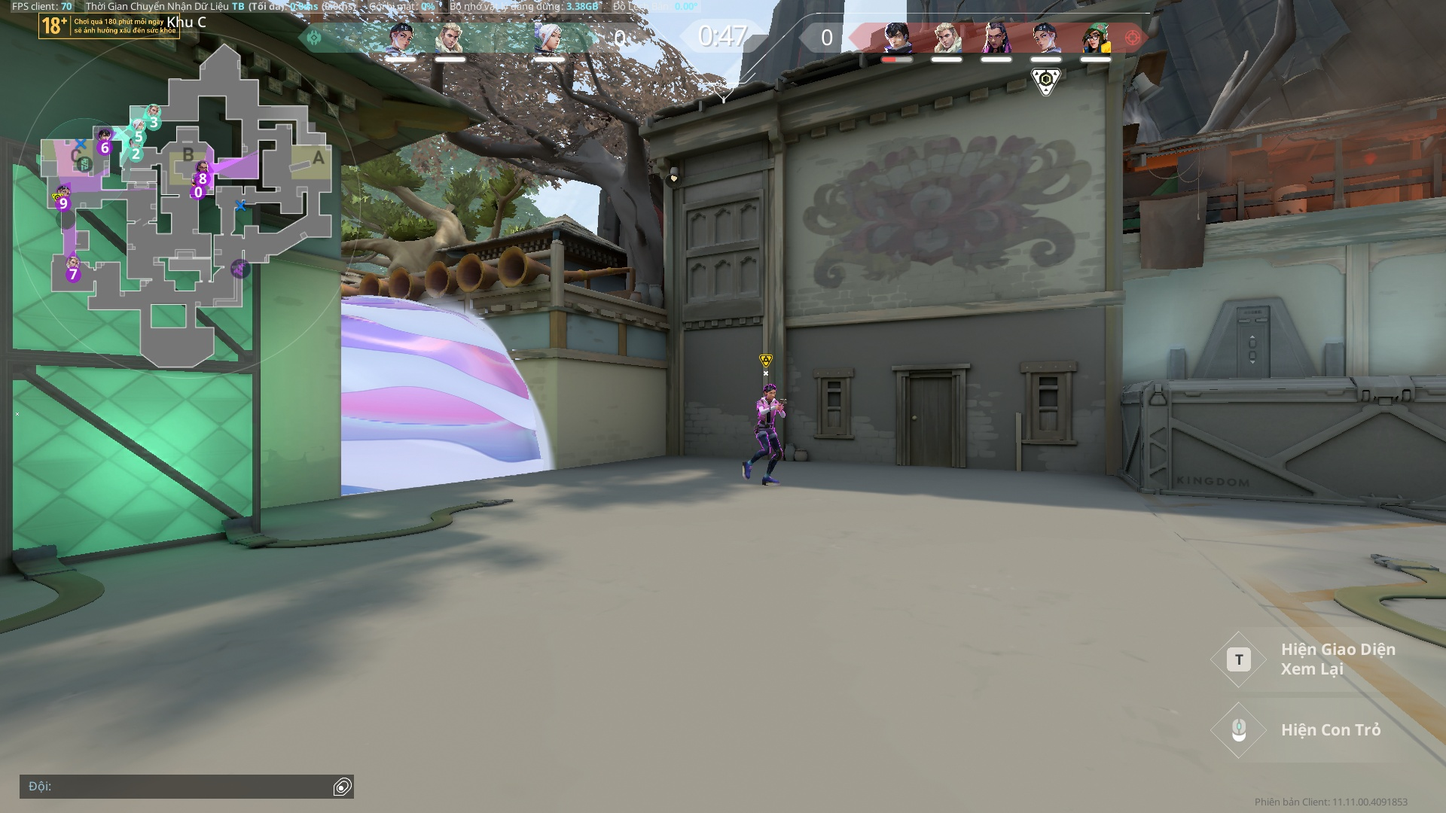body: (755, 396, 779, 422)
head: (762, 382, 777, 398)
